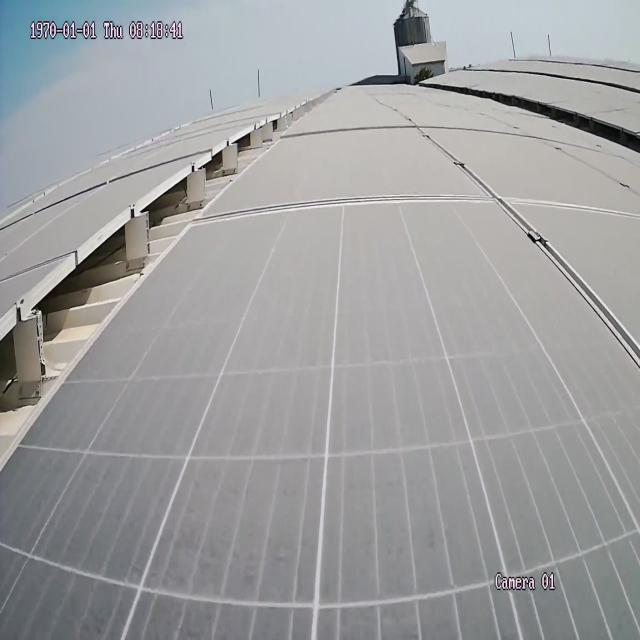interior panel: (414, 129, 636, 367)
outher panel: (0, 88, 331, 468), (459, 84, 640, 159)
